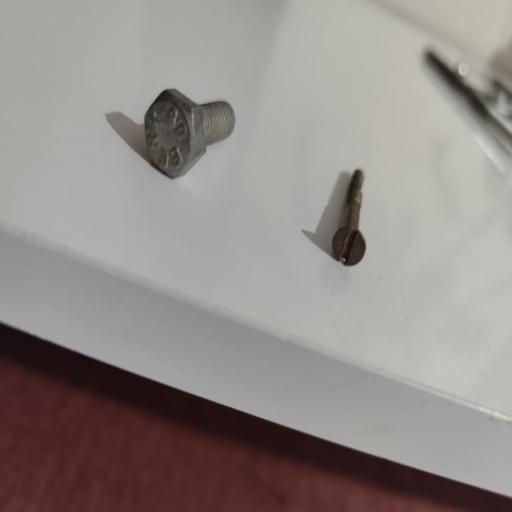Hex-Allen: (133, 87, 212, 177)
Slotted: (331, 224, 367, 270)
